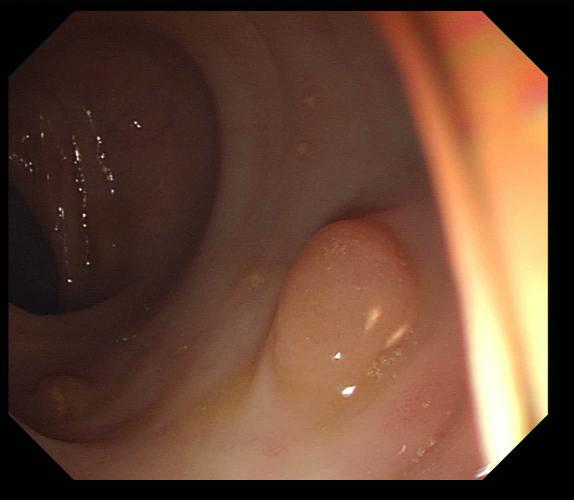polyp: (267, 216, 420, 402), (35, 373, 96, 426), (235, 266, 268, 301), (301, 86, 323, 113), (294, 136, 312, 158)
